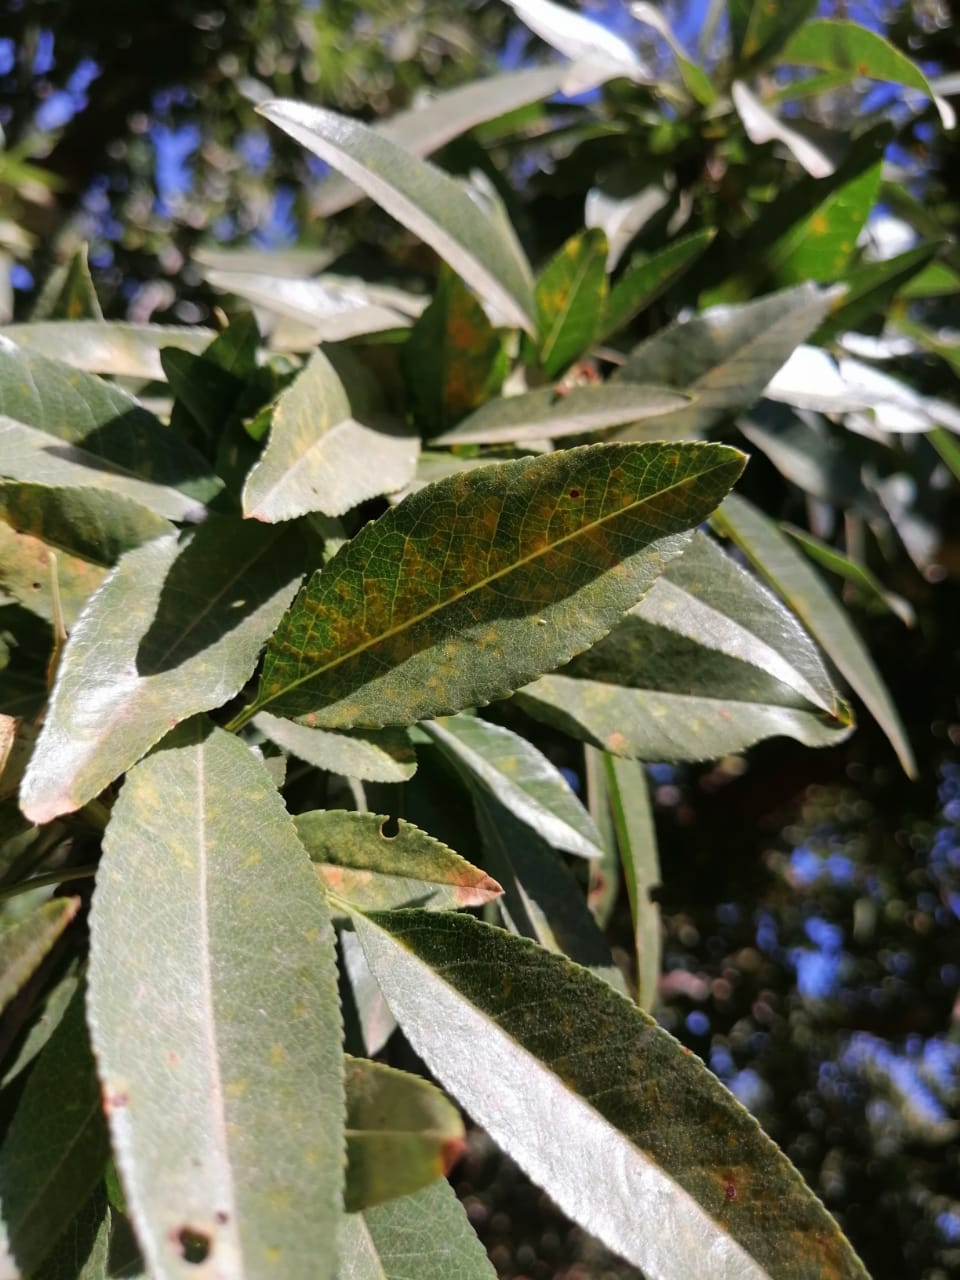rouille: (348, 906, 875, 1280), (248, 435, 751, 727), (88, 719, 346, 1280)
